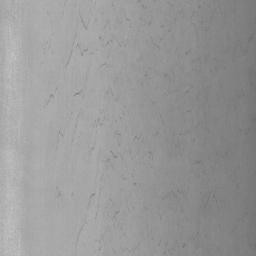Silk spot: (65, 32, 88, 68), (162, 189, 185, 200), (105, 150, 118, 168), (77, 221, 87, 242), (204, 192, 215, 208), (80, 16, 89, 30)
